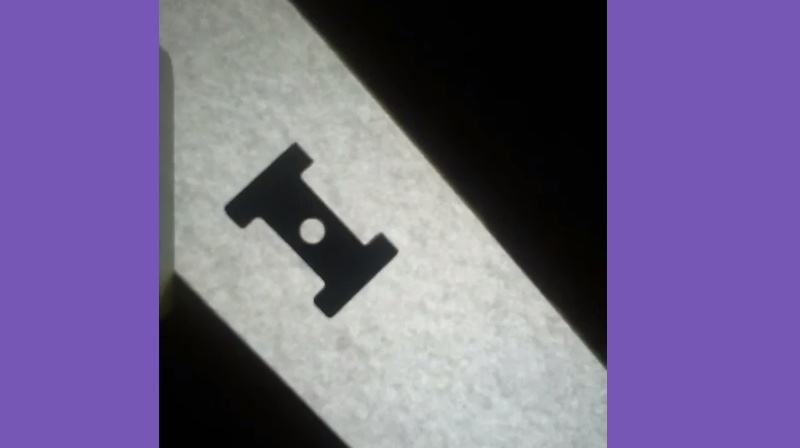O002: (220, 139, 399, 323)
